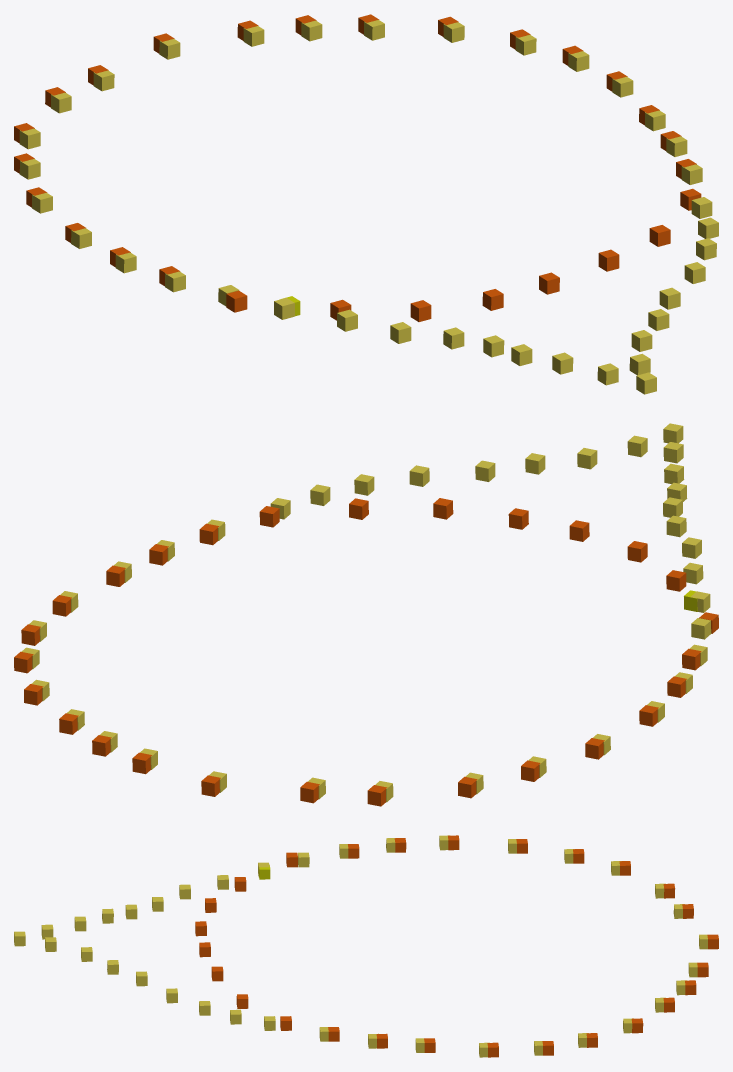
Rendered from mycircles.dae.
The picture shows the model from 3 angles, top to bottom: view 1: azimuth 30°, elevation 25°; view 2: azimuth 150°, elevation 25°; view 3: azimuth 270°, elevation 25°; orthographic projection. The views are drawn at different scales.
Bounding box in the file's own units: 17.77 × 25.56 × 0.6772.
